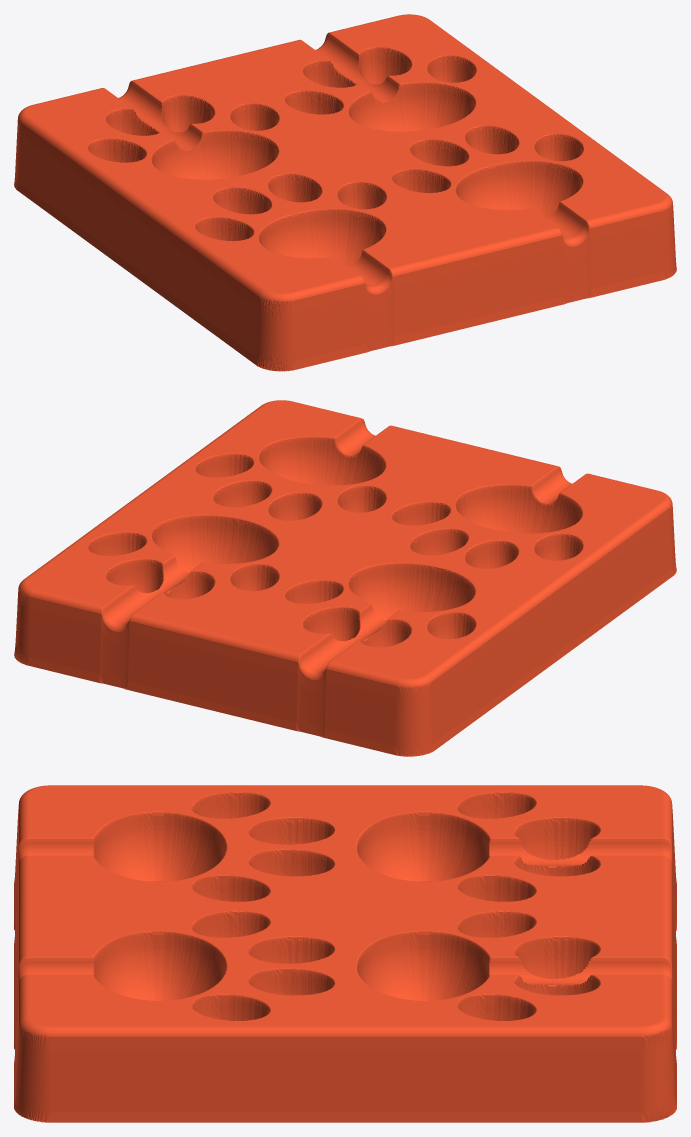
File: mold.glb
3 views of the same model, one above another, from view 1: azimuth 30°, elevation 25°; view 2: azimuth 150°, elevation 25°; view 3: azimuth 270°, elevation 25° (orthographic). The views are drawn at different scales.
Visible parts, largest first — view 1: geometry_0; view 2: geometry_0; view 3: geometry_0.
Boxes of the visible parts, x1,y1,x2,y2 form: geometry_0: [14, 14, 676, 371]; geometry_0: [14, 400, 676, 756]; geometry_0: [14, 785, 676, 1122].
Size of the model in its own units: 0.1468 by 0.0245 by 0.1631.
